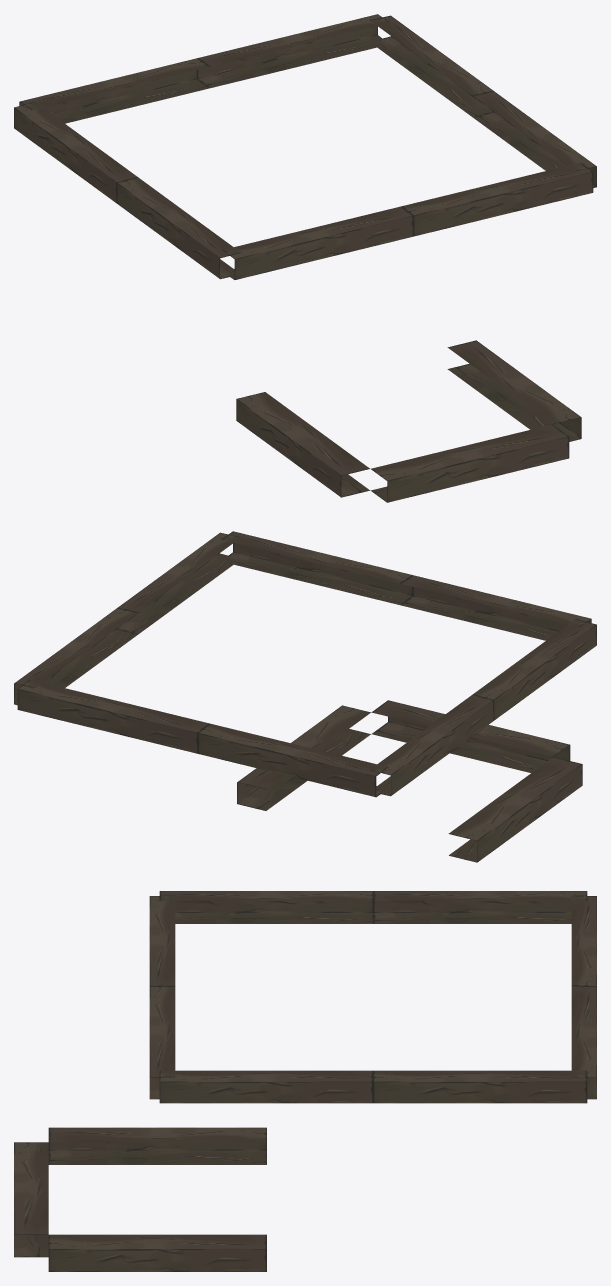
Rendered from polysurface580_txt_poutreh_0_lev1_lev2.glb.
3 renders of one model, top to bottom at view 1: azimuth 30°, elevation 25°; view 2: azimuth 150°, elevation 25°; view 3: azimuth 270°, elevation 25°, orthographic. The views are drawn at different scales.
Visible parts, largest first — view 1: polysurface580_txt_poutreh_0_lev1_lev2; view 2: polysurface580_txt_poutreh_0_lev1_lev2; view 3: polysurface580_txt_poutreh_0_lev1_lev2.
Part boxes in pixels (x1,y1,x2,y2): polysurface580_txt_poutreh_0_lev1_lev2: (14, 14, 596, 502); polysurface580_txt_poutreh_0_lev1_lev2: (14, 531, 596, 862); polysurface580_txt_poutreh_0_lev1_lev2: (14, 891, 596, 1271).
Bounding box in the file's own units: 6.35 × 3.49 × 8.19.
1 material, 1 textured.
